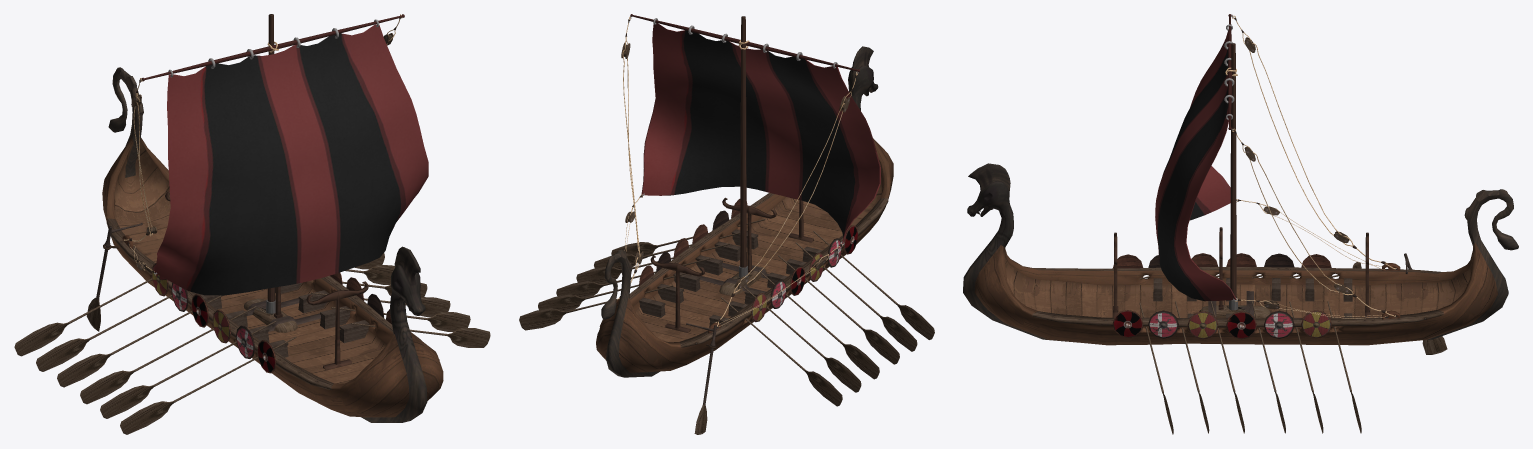
The model's file is barco_vikingo.glb.
The picture shows the model from 3 angles, left to right: view 1: azimuth 30°, elevation 25°; view 2: azimuth 150°, elevation 25°; view 3: azimuth 270°, elevation 25°; orthographic projection. The views are drawn at different scales.
Visible parts, largest first — view 1: Object_3, Object_2; view 2: Object_3, Object_2; view 3: Object_2, Object_3.
Boxes of the visible parts, x1=… form: Object_3: x1=14, y1=24, x2=470, y2=418; Object_2: x1=16, y1=14, x2=490, y2=434; Object_3: x1=519, y1=16, x2=917, y2=406; Object_2: x1=596, y1=14, x2=934, y2=434; Object_2: x1=963, y1=14, x2=1518, y2=434; Object_3: x1=1113, y1=16, x2=1400, y2=433.
Size of the model in its own units: 12.79 by 12.53 by 18.64.
1 material, 1 textured.
